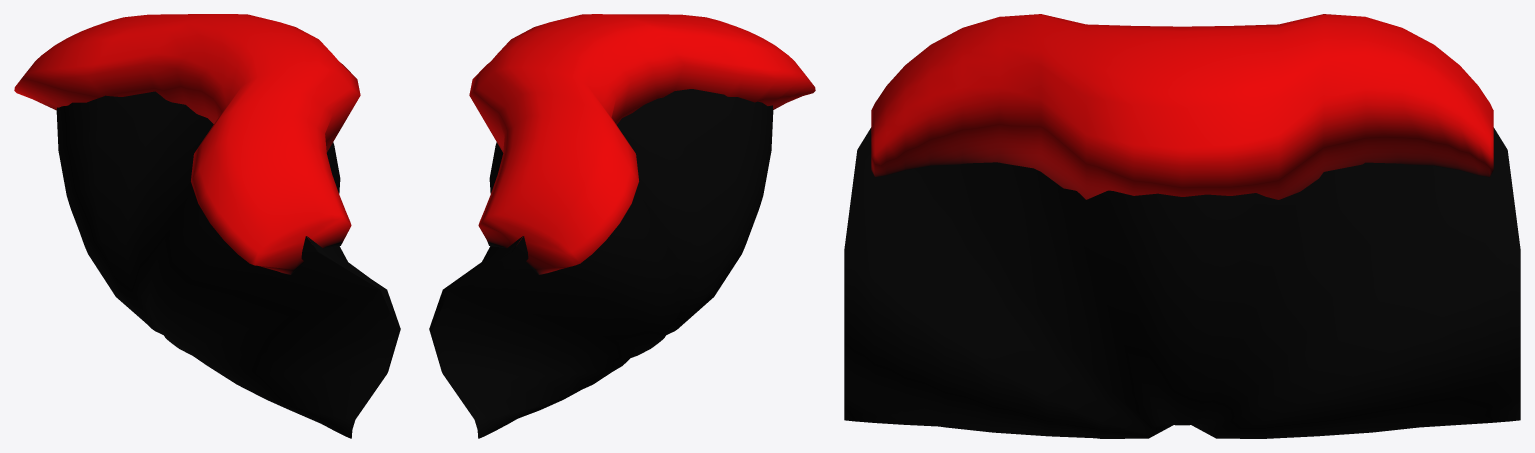
The model's file is giant_clam_game.glb.
3 renders of one model, left to right at view 1: azimuth 30°, elevation 25°; view 2: azimuth 150°, elevation 25°; view 3: azimuth 270°, elevation 25°, orthographic. The views are drawn at different scales.
Parts seen in each view (by area): view 1: giant_clam_game; view 2: giant_clam_game; view 3: giant_clam_game.
Boxes of the visible parts, x1,y1,x2,y2 form: giant_clam_game: (14, 14, 400, 438); giant_clam_game: (429, 14, 815, 438); giant_clam_game: (844, 14, 1520, 438).
Bounding box in the file's own units: 0.5157 × 0.6512 × 1.
